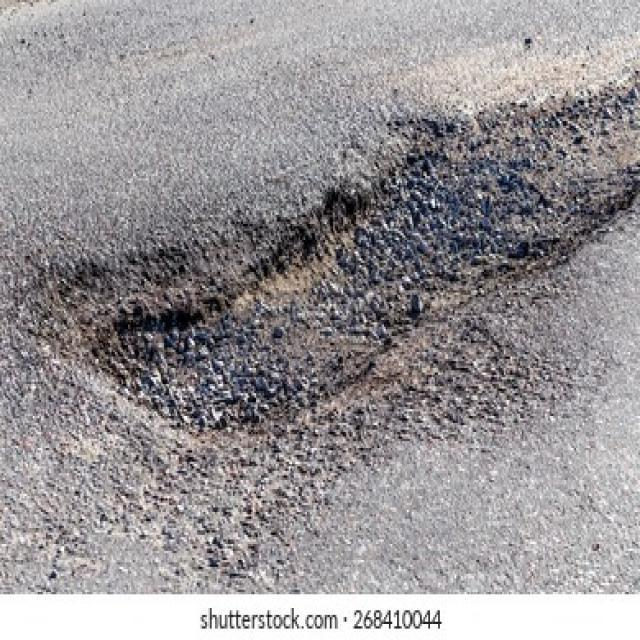Pothole: (5, 62, 640, 457)
